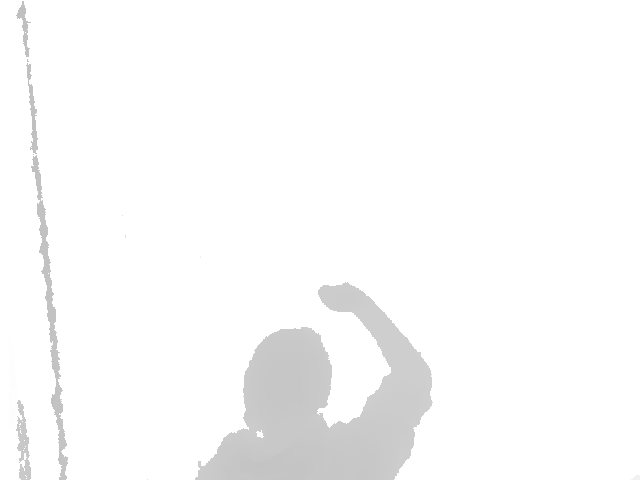hand: (317, 281, 373, 316)
head: (243, 327, 332, 429)
person: (194, 281, 434, 480)
